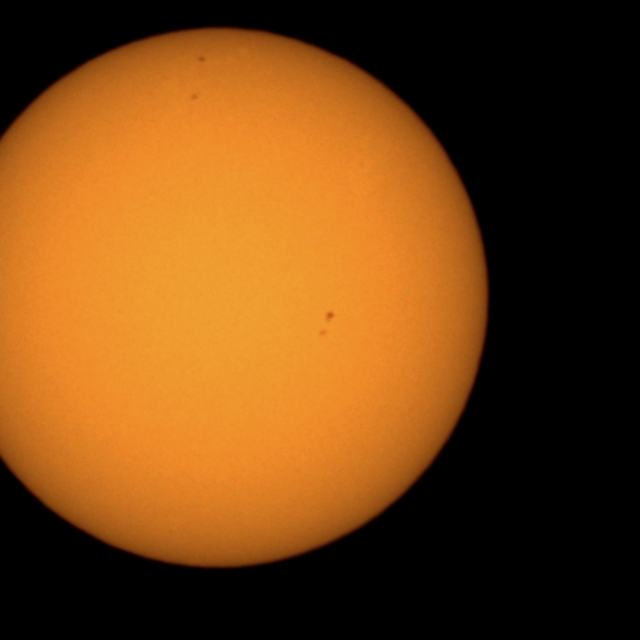sunspot: (318, 310, 336, 338), (323, 309, 337, 327), (189, 92, 200, 103), (195, 54, 207, 64)
